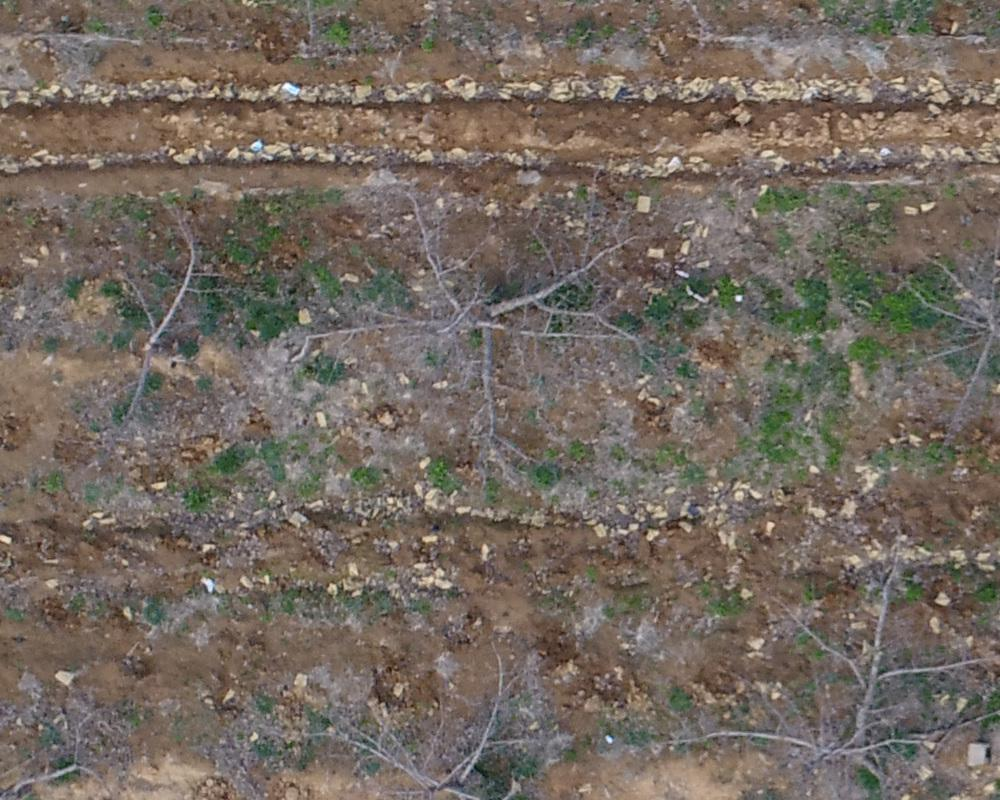apple: (319, 185, 664, 394), (708, 544, 990, 790), (87, 200, 249, 439), (330, 647, 560, 790), (903, 212, 990, 422)
